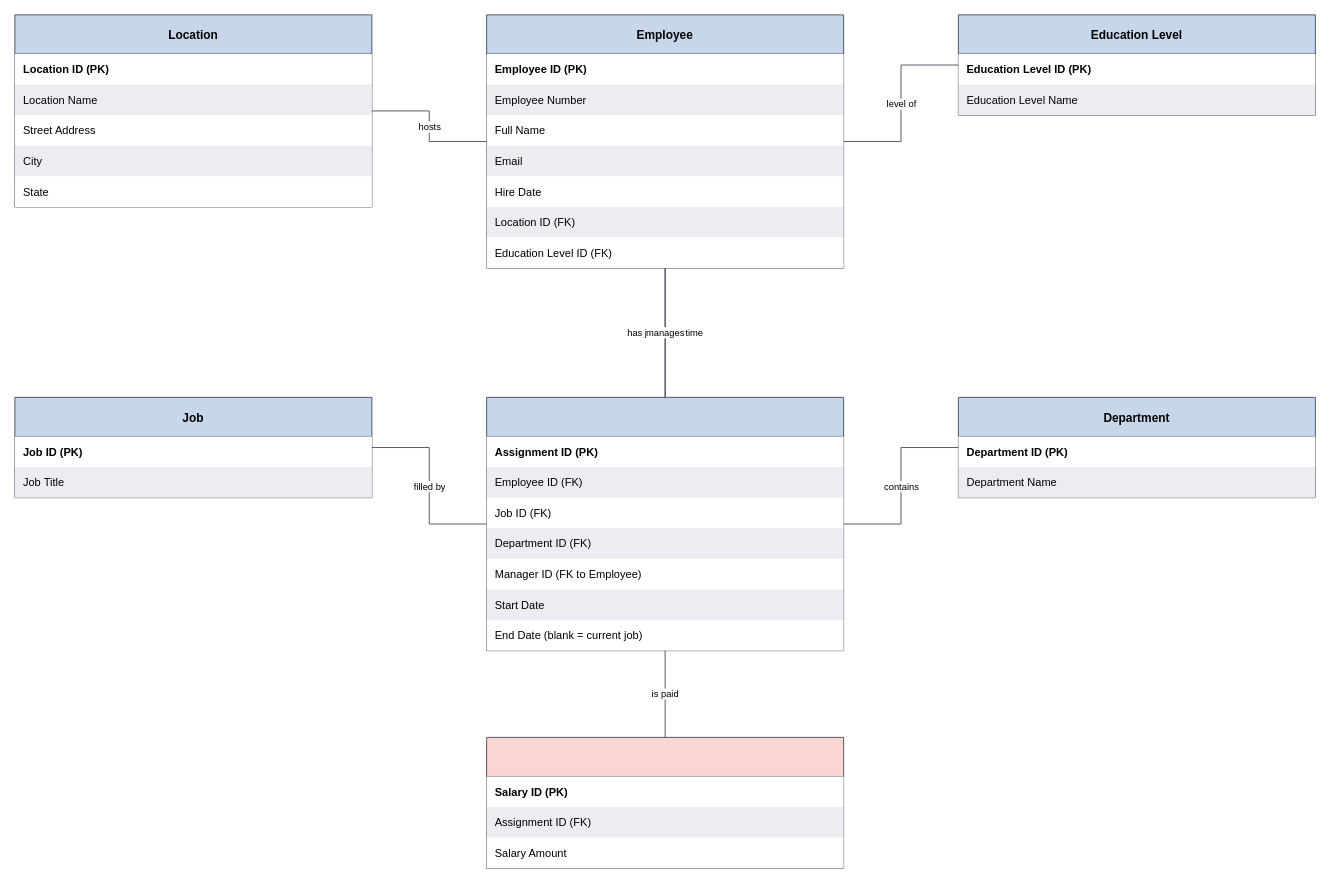
This 1330x883 diagram has some shape labels left out. Here are the shapes that lost their labels. From the top down, the box of each, then its label:
(486, 397, 844, 651): Job Assignment
(486, 737, 844, 868): Salary (Restricted)
